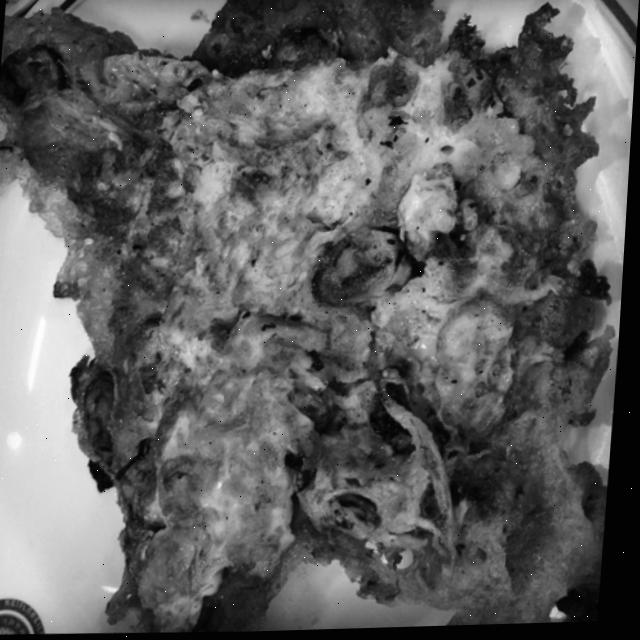炸货点心: (0, 0, 629, 640)
蛋糕甜品: (0, 0, 629, 640)
